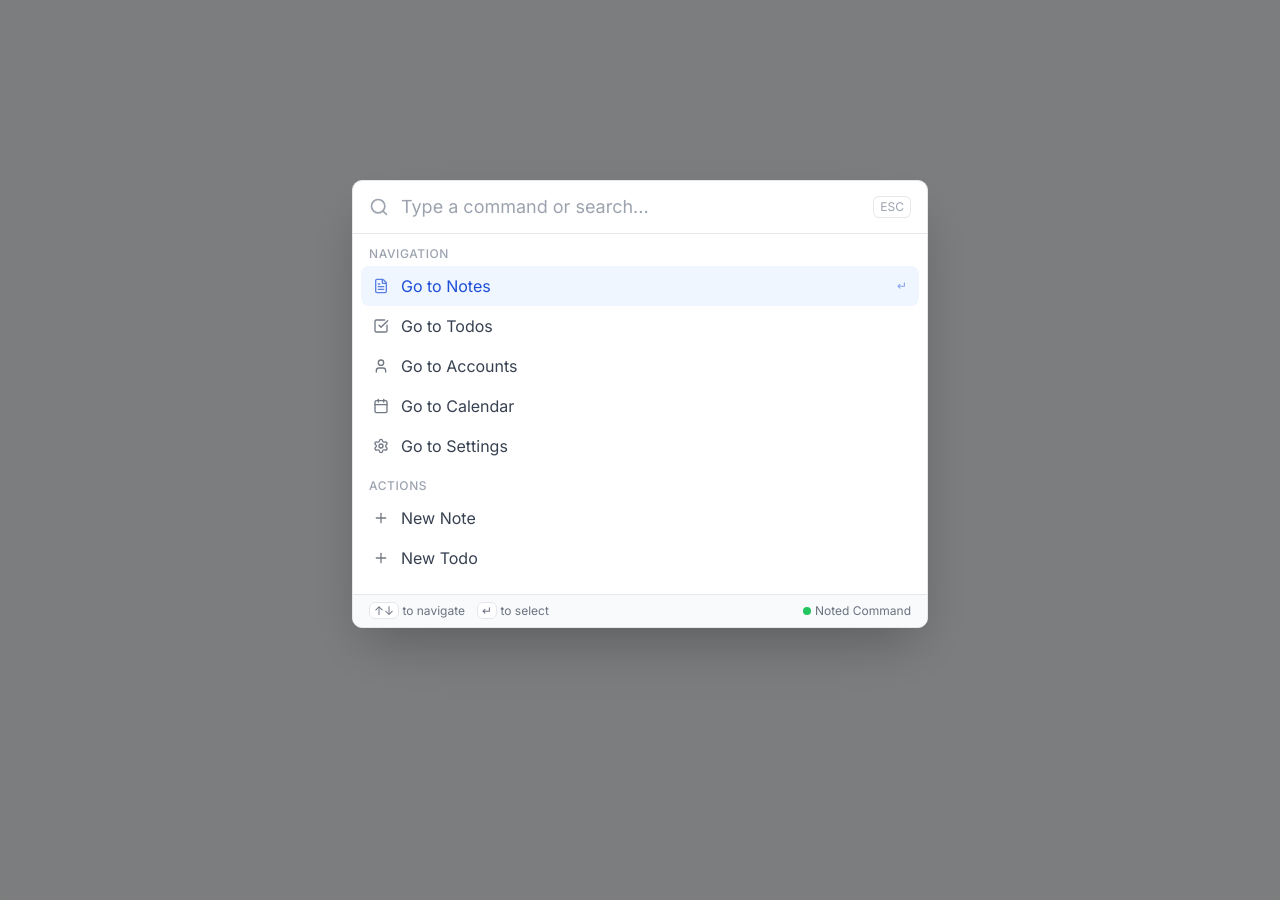
it: CommandPalette › filters commands based on input
Type "Settings" into the field with placeholder "Type a command or search..." at [637, 207], box [401, 193, 873, 221]
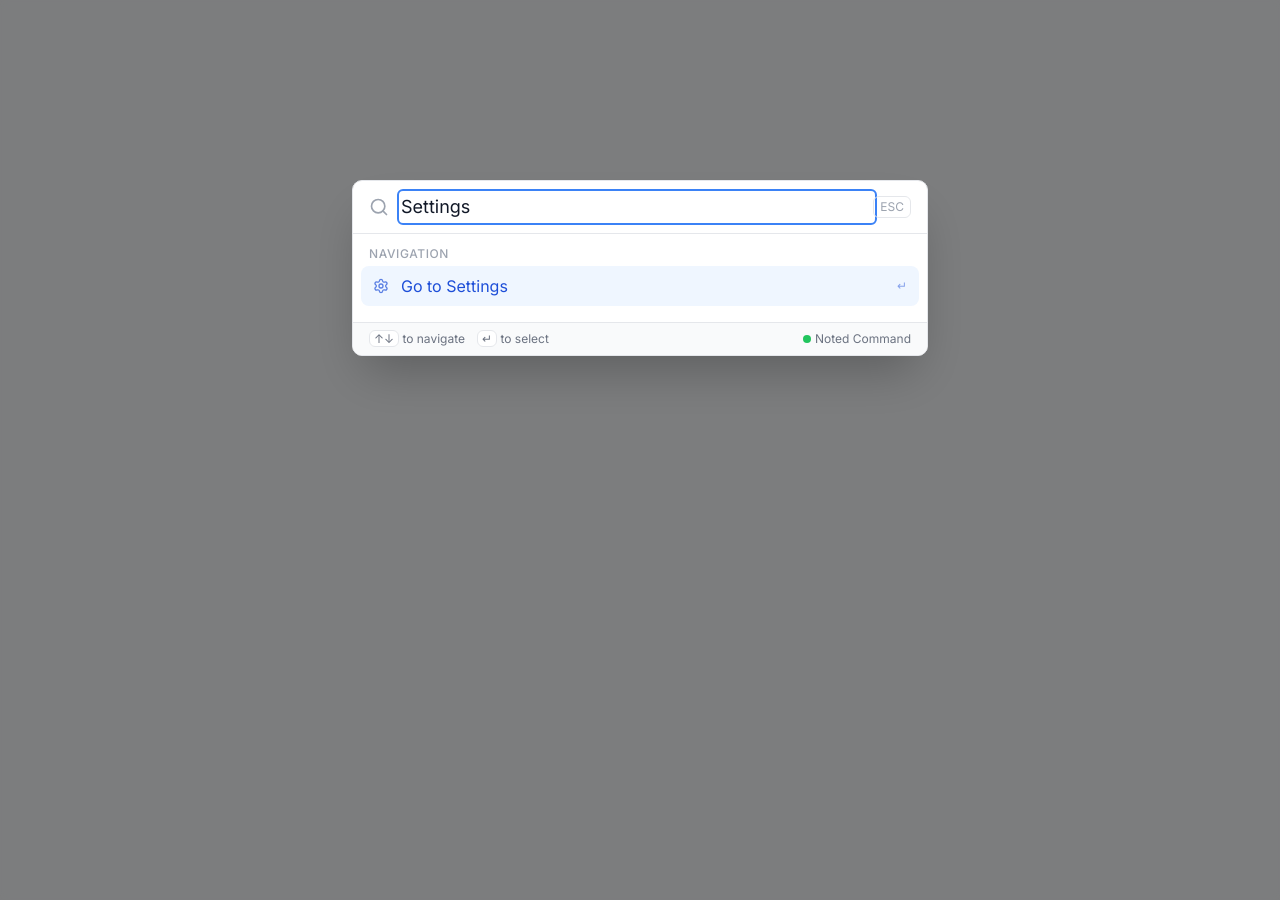
Expected: the text "Go to Settings" is shown, [401, 276, 508, 296]
Expected: the button "Go to Notes" is gone
